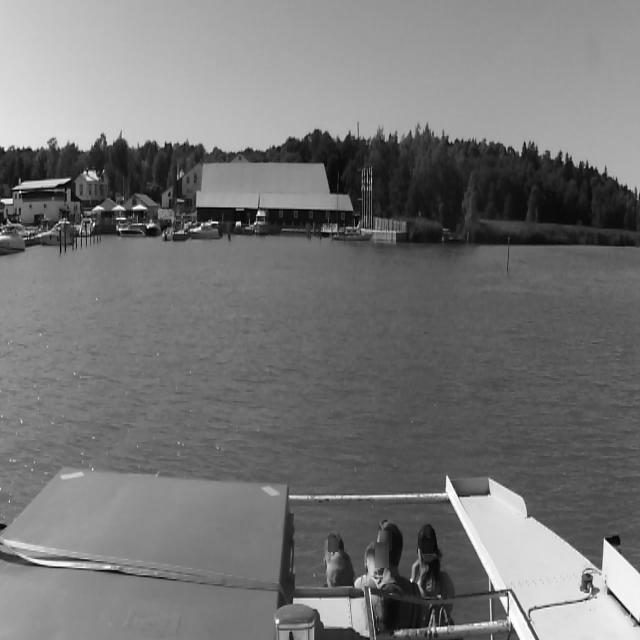buoy: (503, 236, 512, 276)
ship: (329, 113, 371, 243), (37, 218, 76, 248), (254, 192, 270, 237), (188, 219, 220, 241), (78, 215, 95, 237), (117, 225, 145, 238), (145, 216, 161, 236), (163, 225, 173, 243)
